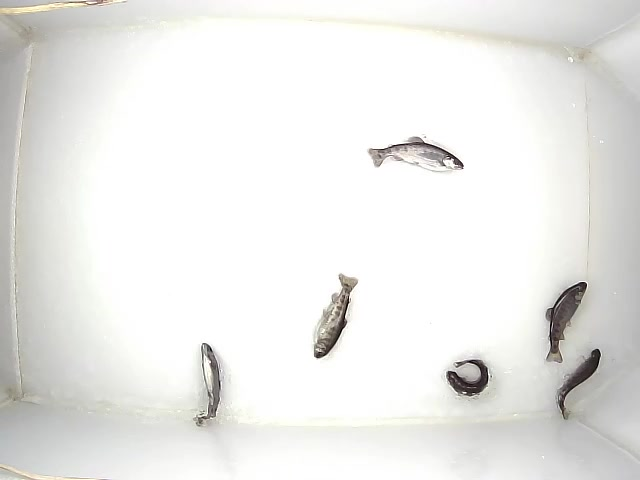fish: (314, 273, 359, 358), (368, 136, 464, 172), (545, 282, 587, 363), (556, 348, 601, 420), (193, 343, 221, 427), (446, 359, 489, 396)
